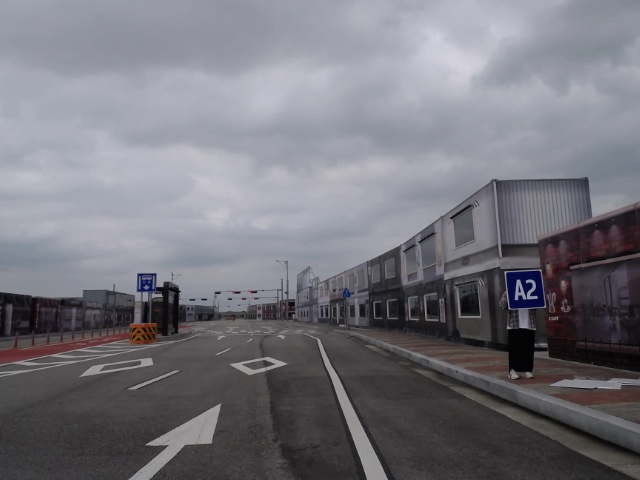delivery_a2: (505, 270, 546, 310)
